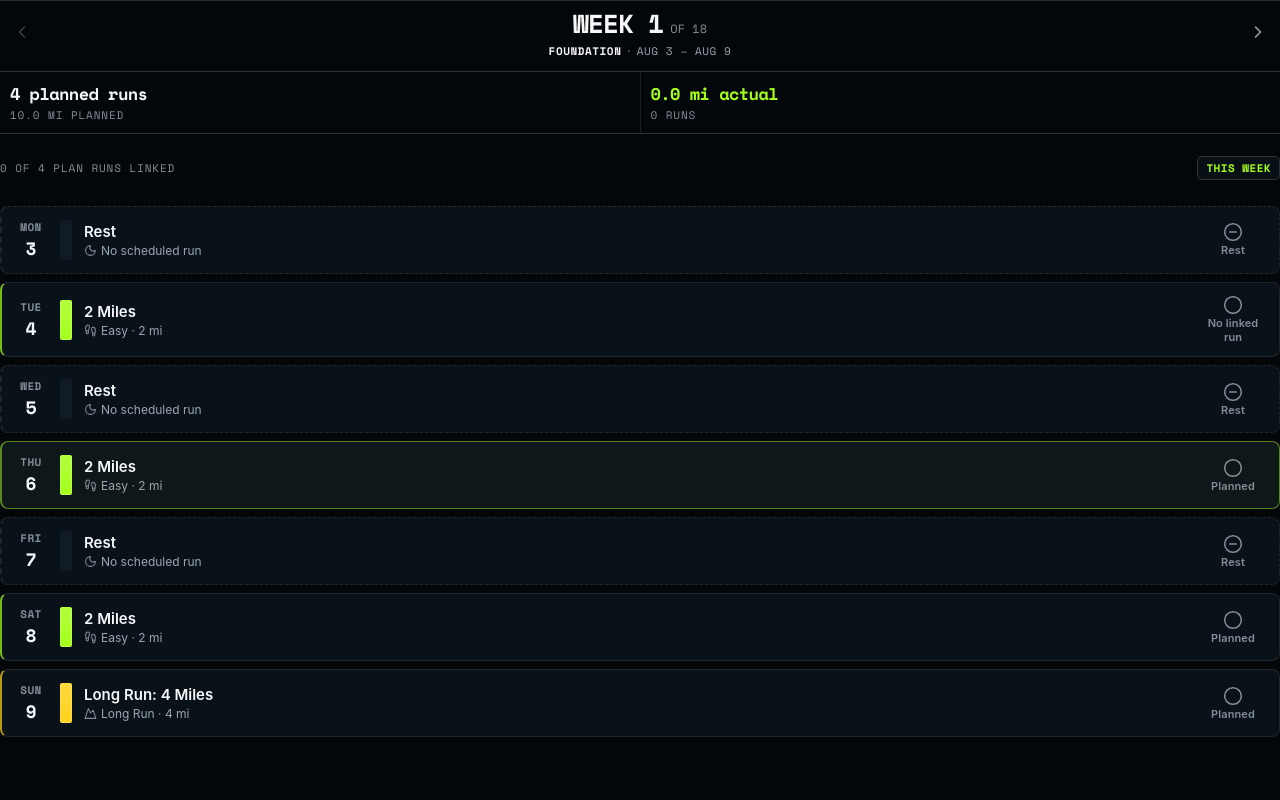
Test: editing a planned workout › requires a name
Click the button with aria-label "Saturday, August 8, 2 Miles, Easy, 2 mi" at coordinates (110, 619), box [2, 594, 1279, 660]
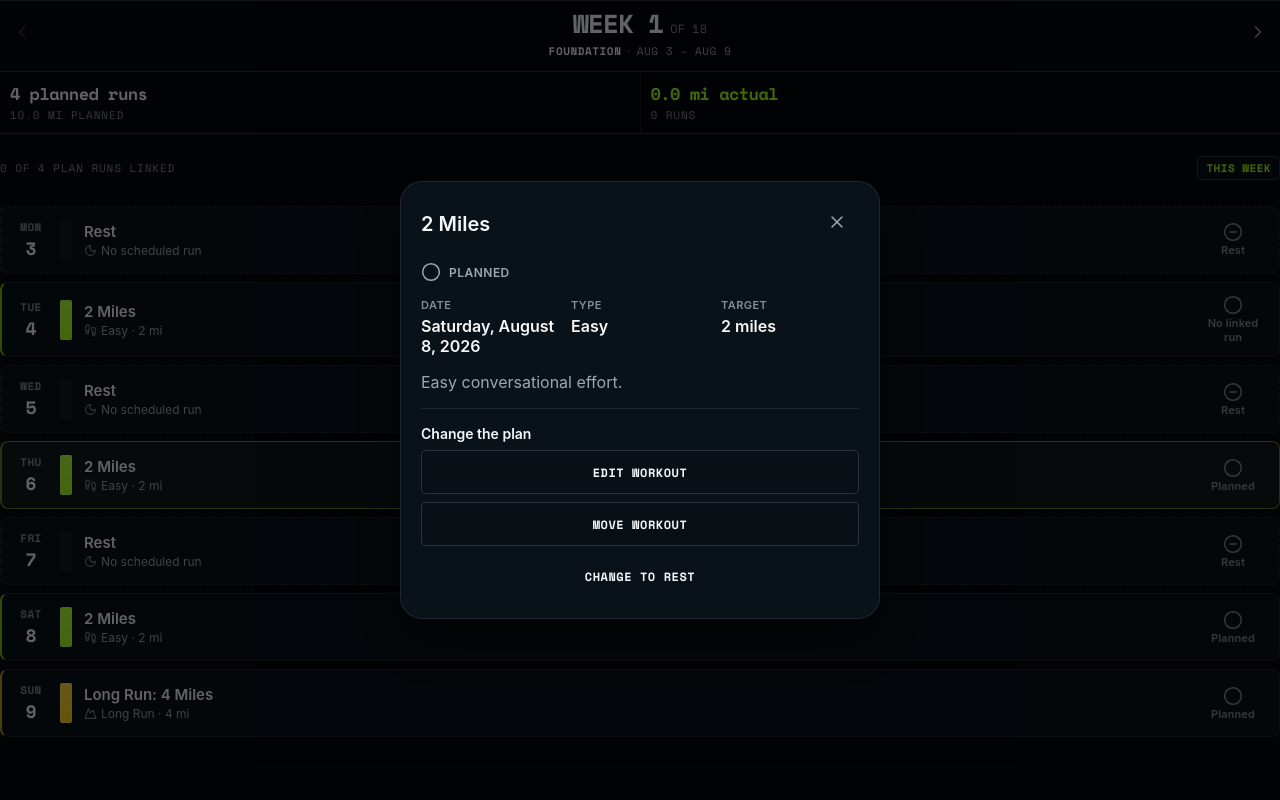
Click the button "Edit Workout" at coordinates (640, 472), box [421, 450, 859, 494]
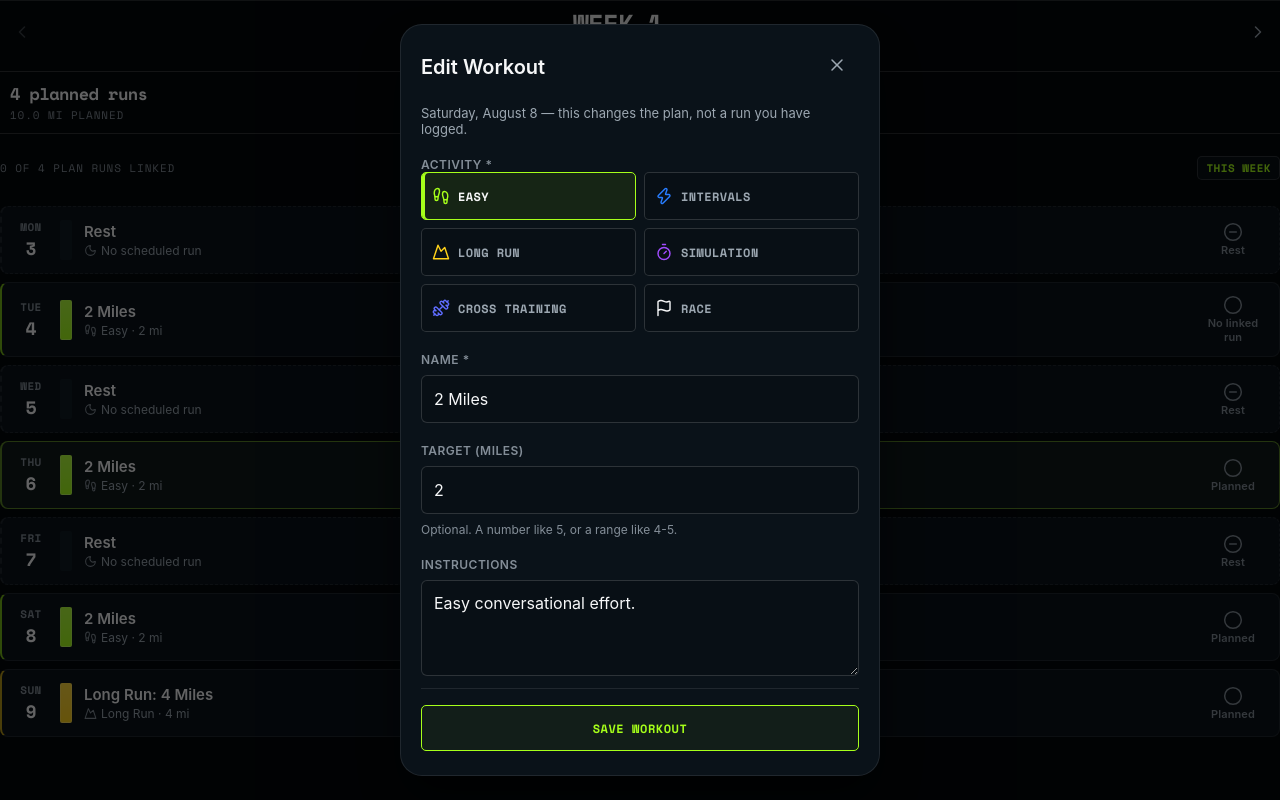
Clear the field labelled "Name *" at coordinates (640, 399), box [421, 375, 859, 423]
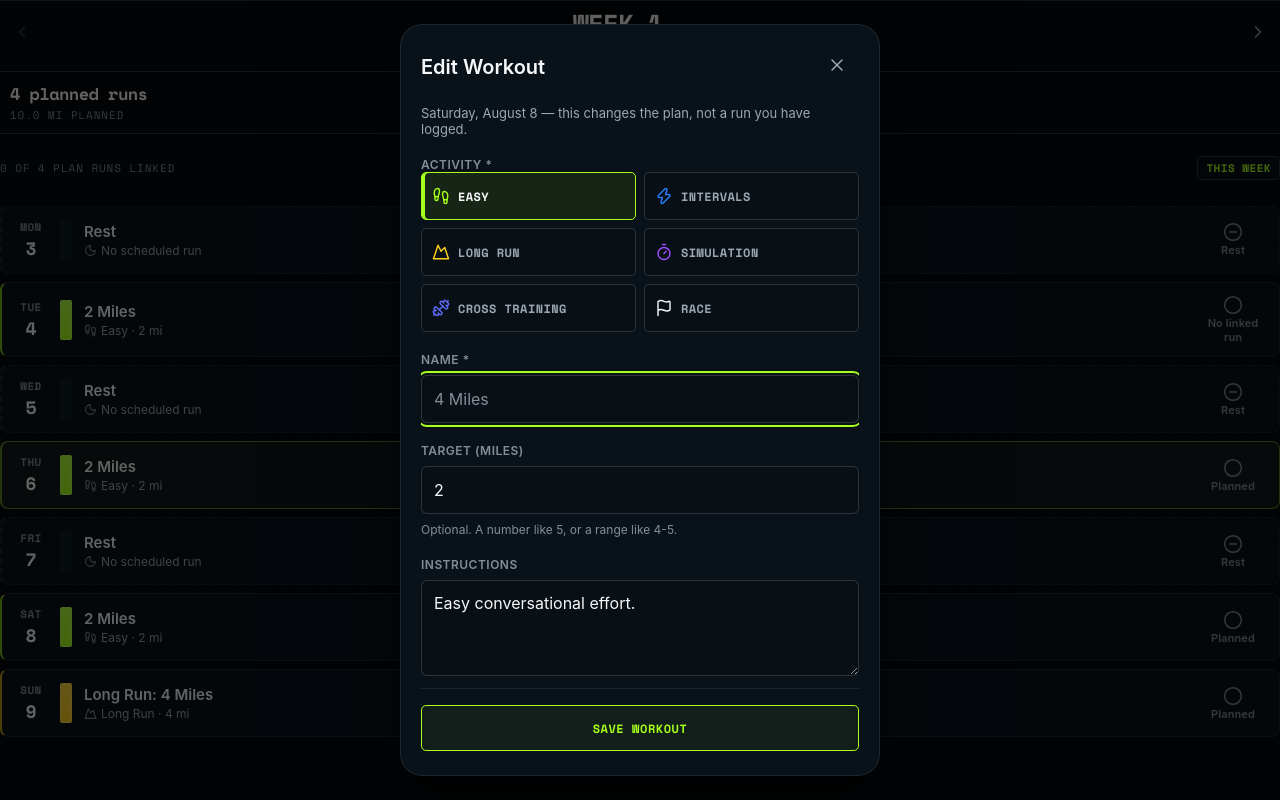
Click the button "Save Workout" at coordinates (640, 728), box [421, 705, 859, 751]
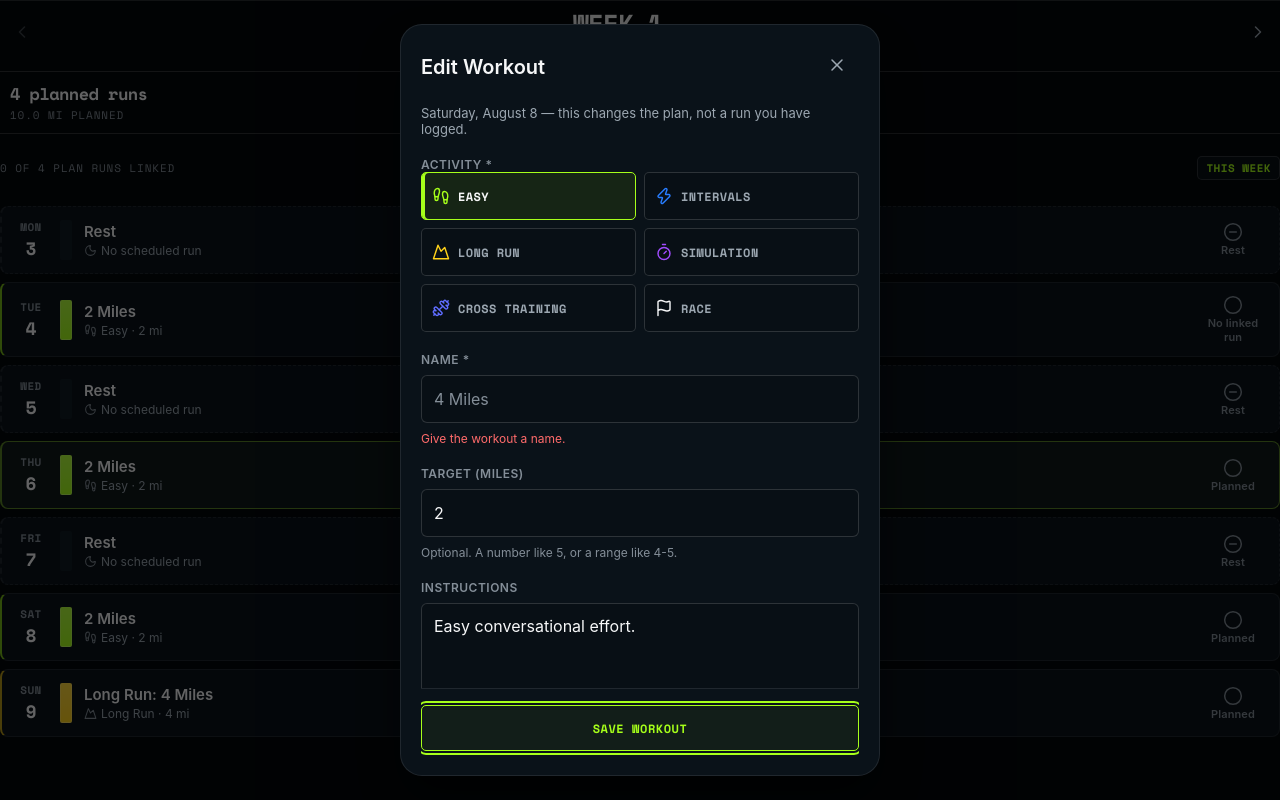
Expected: the text "Give the workout a name." is shown, [421, 431, 566, 446]
